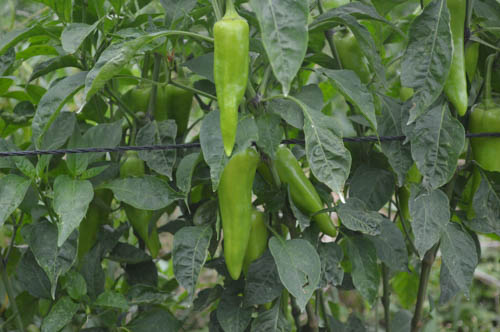ChiliPepper: (270, 142, 338, 238), (216, 147, 254, 282), (214, 18, 250, 159), (428, 4, 470, 117), (118, 151, 160, 260), (335, 35, 384, 120), (470, 105, 496, 222), (245, 208, 275, 284), (130, 83, 164, 145), (165, 82, 192, 146)
